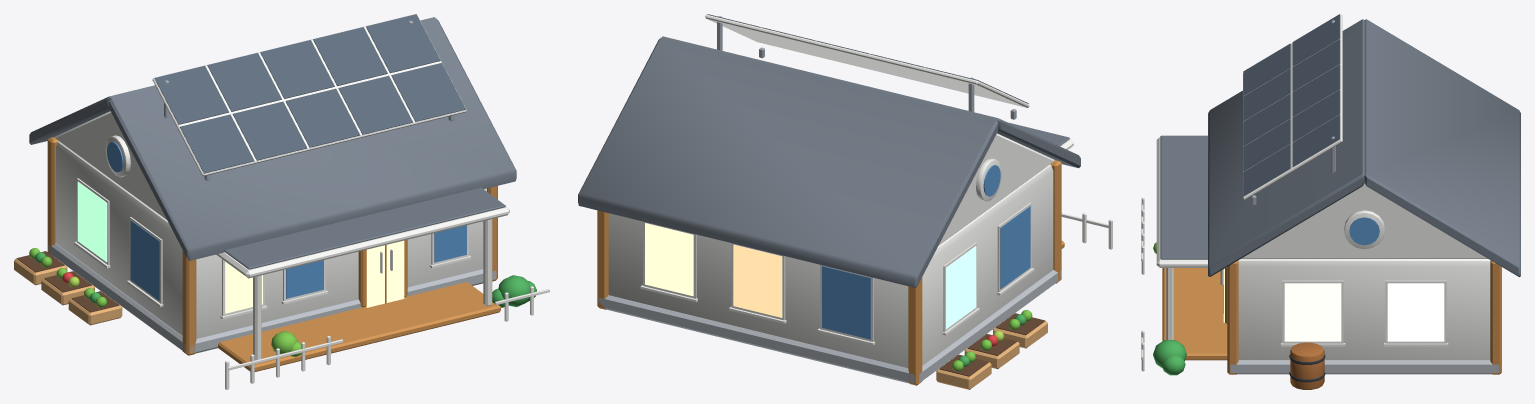
Rendered from casa_paineis_solares.glb.
3 views of the same model, side by side, from view 1: azimuth 30°, elevation 25°; view 2: azimuth 150°, elevation 25°; view 3: azimuth 270°, elevation 25° (orthographic). The views are drawn at different scales.
Parts seen in each view (by area): view 1: casa_paineis_solares; view 2: casa_paineis_solares; view 3: casa_paineis_solares.
Part boxes in pixels (bbox=[...]): casa_paineis_solares: bbox=[14, 14, 549, 389]; casa_paineis_solares: bbox=[578, 14, 1112, 389]; casa_paineis_solares: bbox=[1141, 14, 1520, 389].
Bounding box in the file's own units: 11.41 × 6.51 × 9.96.
6 materials, 1 textured.
